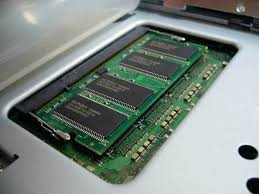ram: (35, 32, 208, 156)
